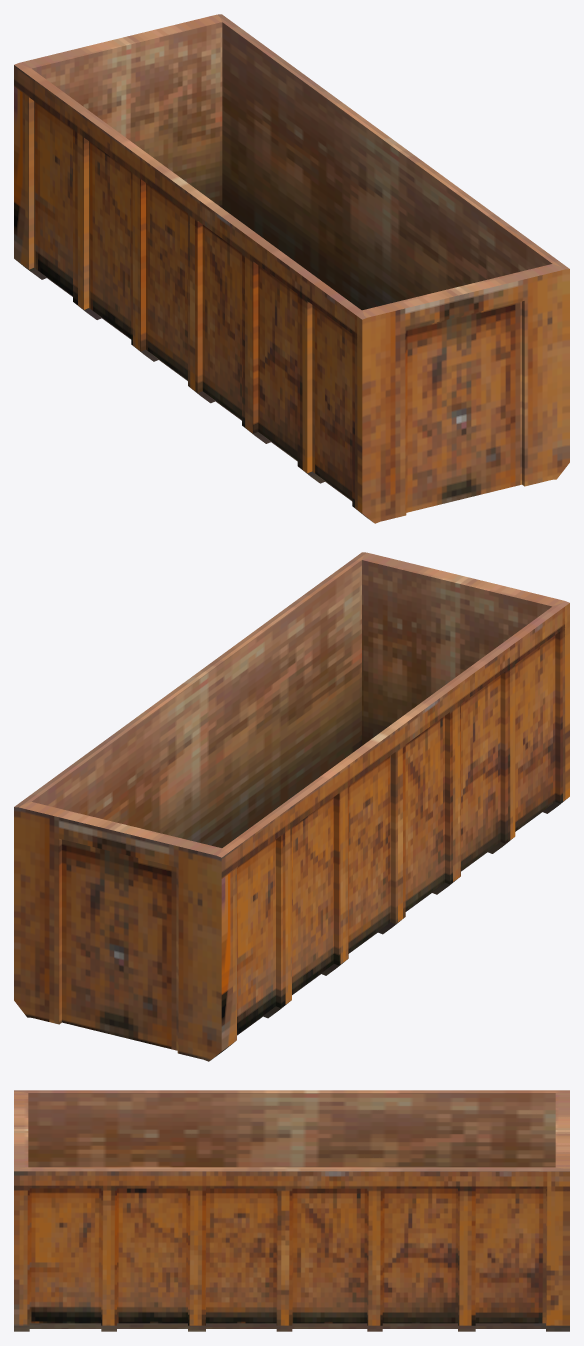
Rendered from orangeDumpster.glb.
The picture shows the model from 3 angles, top to bottom: view 1: azimuth 30°, elevation 25°; view 2: azimuth 150°, elevation 25°; view 3: azimuth 270°, elevation 25°; orthographic projection. The views are drawn at different scales.
Parts seen in each view (by area): view 1: Cube; view 2: Cube; view 3: Cube.
Boxes of the visible parts, bbox=[...] form: Cube: bbox=[14, 14, 569, 523]; Cube: bbox=[14, 552, 569, 1061]; Cube: bbox=[14, 1090, 569, 1331].
Size of the model in its own units: 2.1 by 2.01 by 6.09.
1 material, 1 textured.
